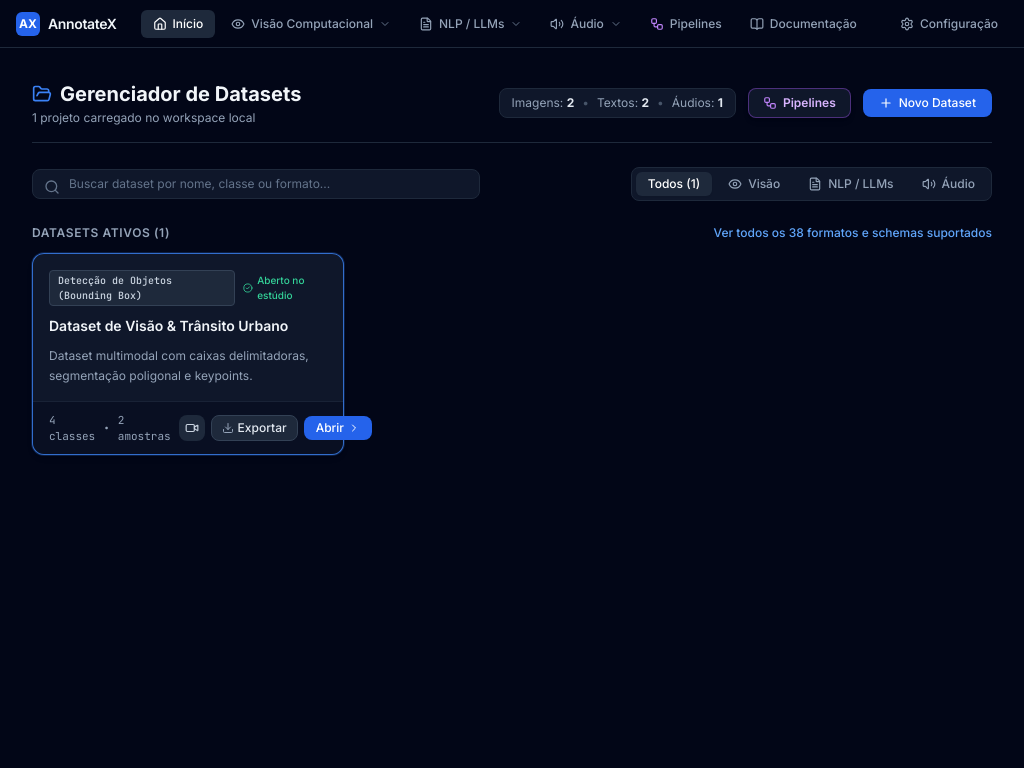
Test: AnnotateX Studio (Integration Tests) › opens New Dataset Modal with domain and exact paradigm selector
The width and height of the screenshot is (1024, 768).
Click the button "Novo Dataset". click: (927, 103)
box: [863,89,992,117]
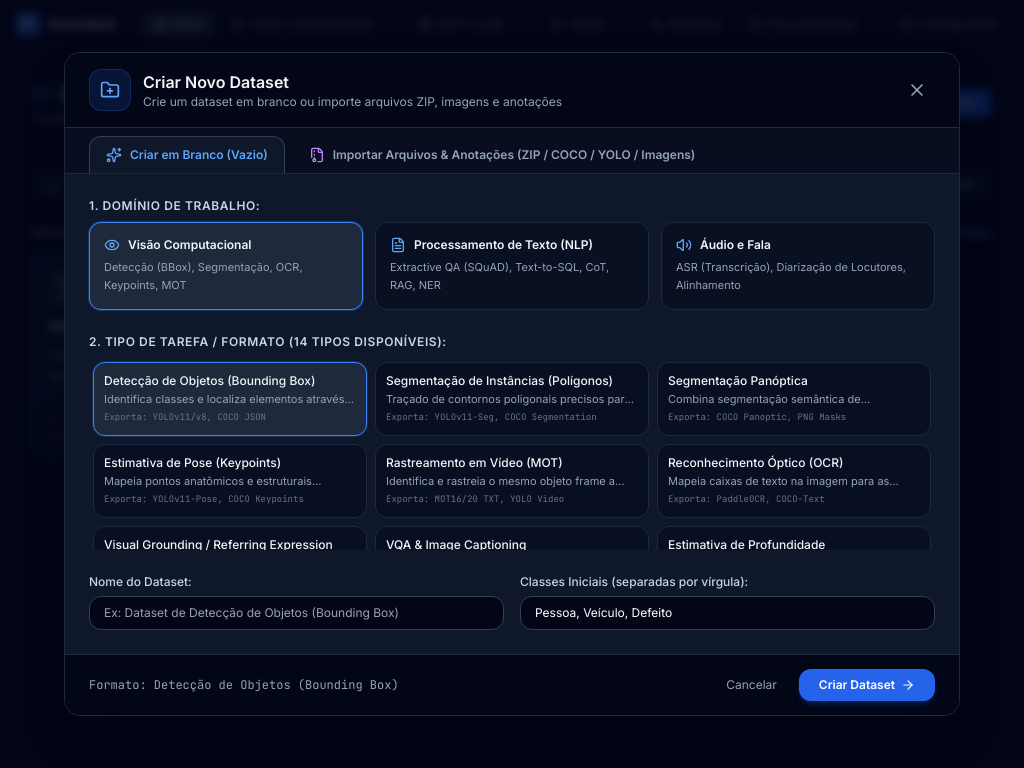
Expected: the heading "Criar Novo Dataset" is shown, [143,72,289,92]
Expected: the text "1. Domínio de Trabalho:" is shown, [89,198,260,213]
Expected: the text "2. Tipo de Tarefa / Formato (14 tipos disponíveis):" is shown, [89,334,447,349]
Switch domain to NLP in modal
Click the text "Processamento de Texto (NLP)". click: (503, 245)
box: [414,237,593,253]
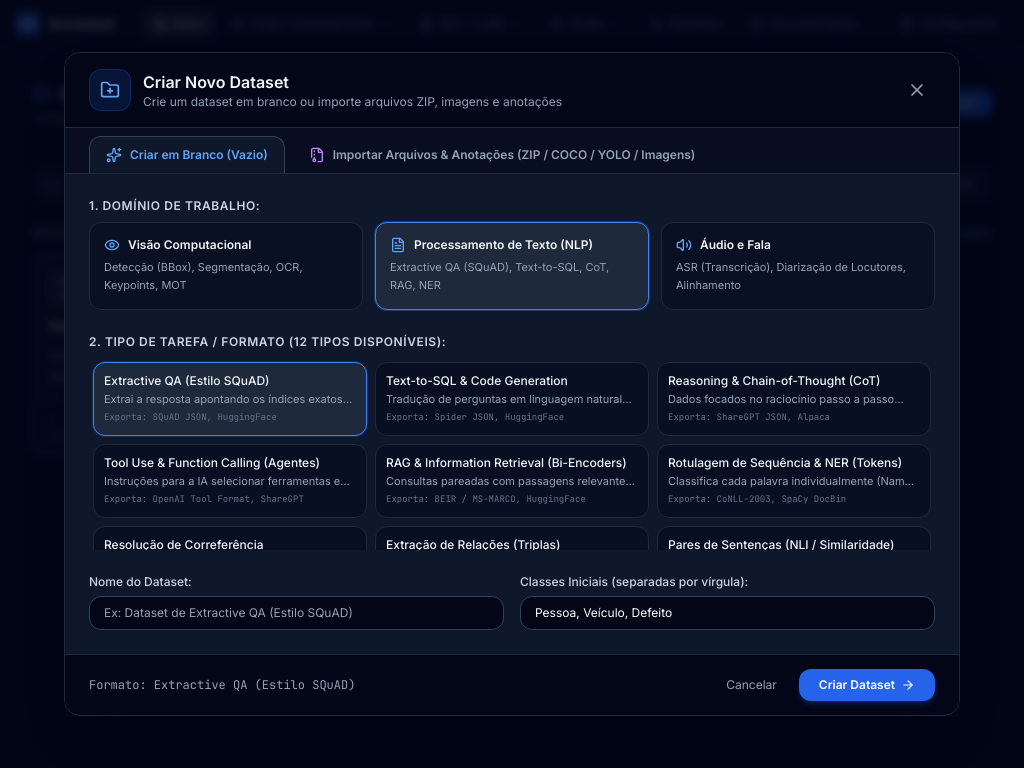
Expected: the text "Extractive QA (SQuAD), Text-to-SQL, CoT, RAG, NER" is shown, [390,259,634,295]
Close modal
Click the button "Cancelar". click: (752, 685)
box: [712,669,791,701]
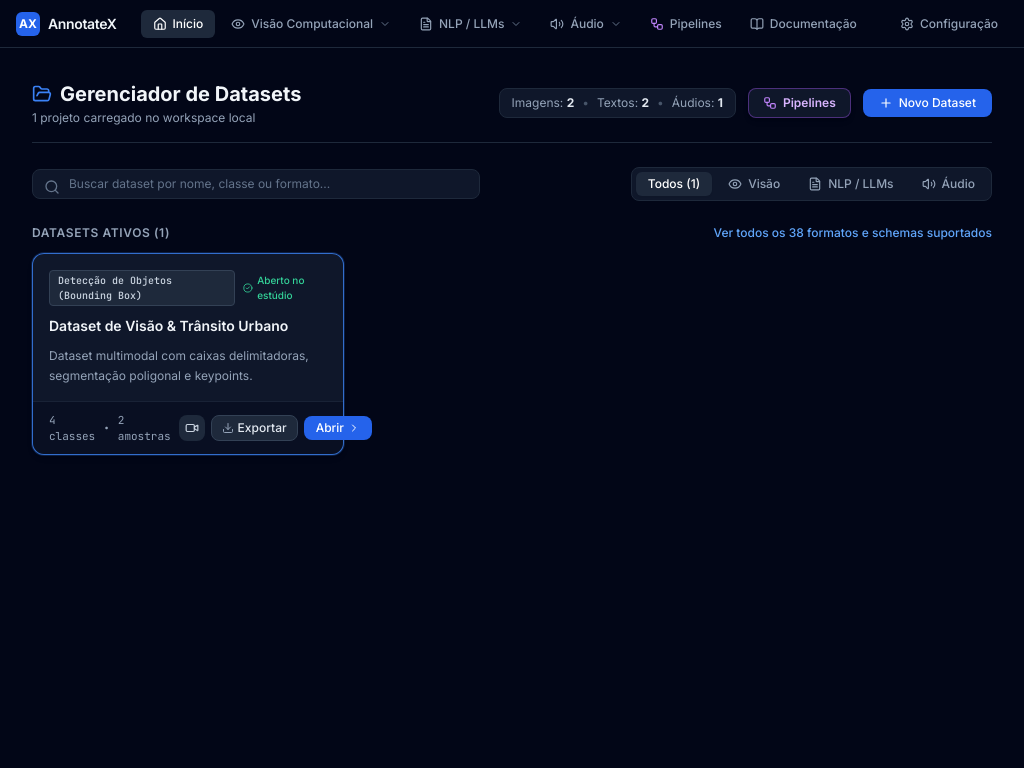
Expected: the heading "Criar Novo Dataset" is gone
